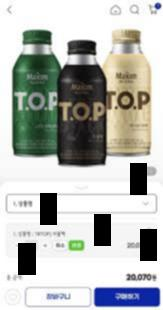TOP_black: (61, 34, 107, 167)
